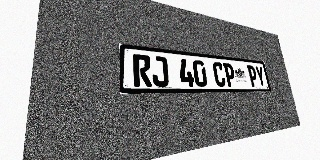0: (192, 60, 208, 87)
4: (178, 58, 195, 87)
C: (212, 62, 226, 87)
J: (151, 56, 169, 87)
P: (223, 63, 237, 87), (247, 65, 259, 87)
R: (133, 54, 152, 87)
Y: (255, 66, 266, 87)
